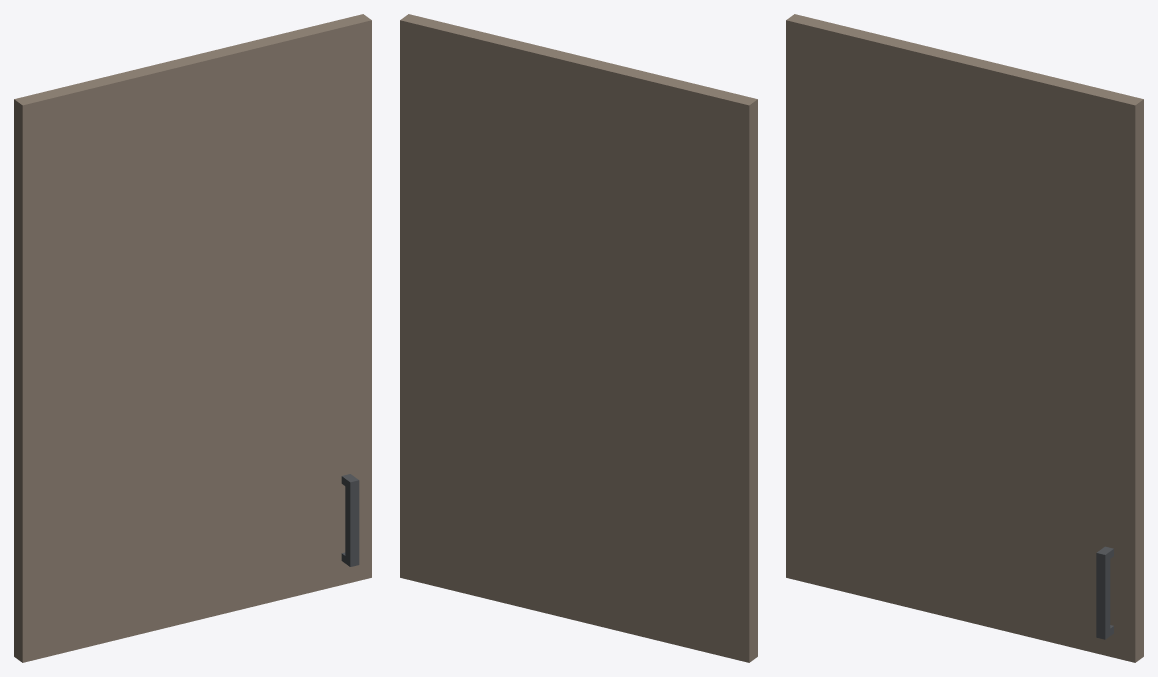
The model's file is Door1_C5_12.fbx.
3 renders of one model, left to right at view 1: azimuth 30°, elevation 25°; view 2: azimuth 150°, elevation 25°; view 3: azimuth 330°, elevation 25°, orthographic.
Visible parts, largest first — view 1: Door1_C5_12; view 2: Door1_C5_12; view 3: Door1_C5_12.
Boxes of the visible parts, <box> form: Door1_C5_12: <box>14,14,371,662</box>; Door1_C5_12: <box>400,14,757,662</box>; Door1_C5_12: <box>786,14,1143,662</box>.
Bounding box in the file's own units: 59 × 90 × 5.03.
